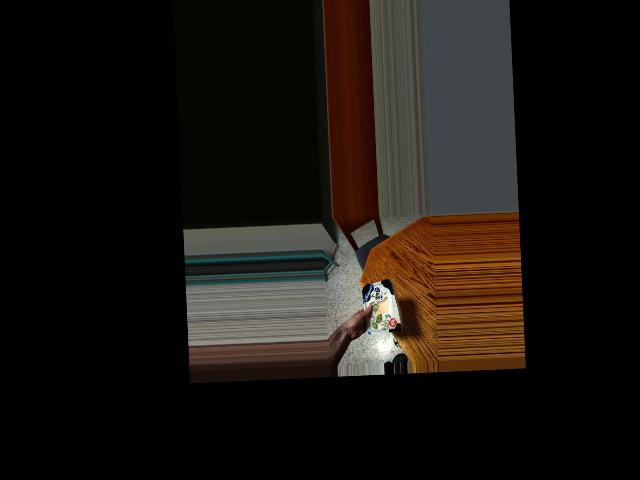cheese: (354, 282, 400, 327)
